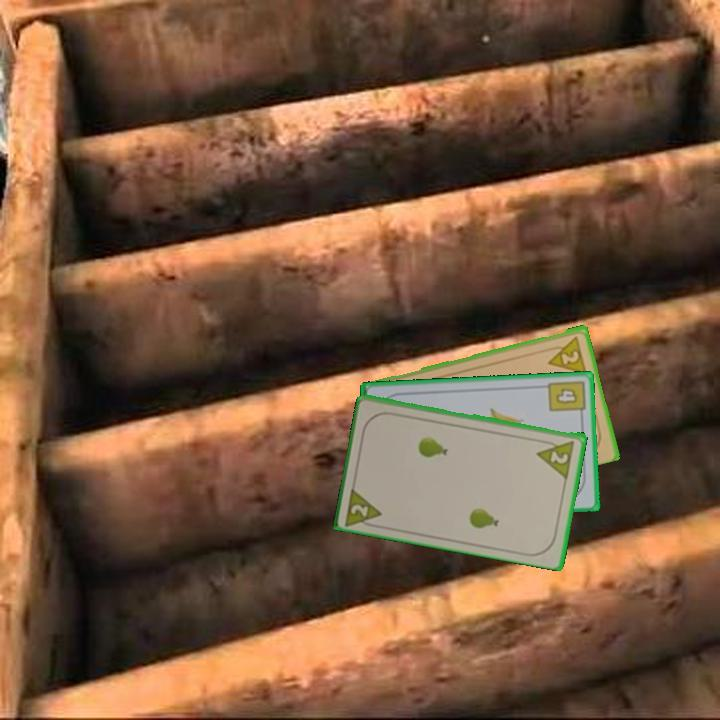2p: (542, 331, 589, 376), (342, 482, 385, 530), (547, 446, 571, 466)
4b: (545, 377, 588, 420)
